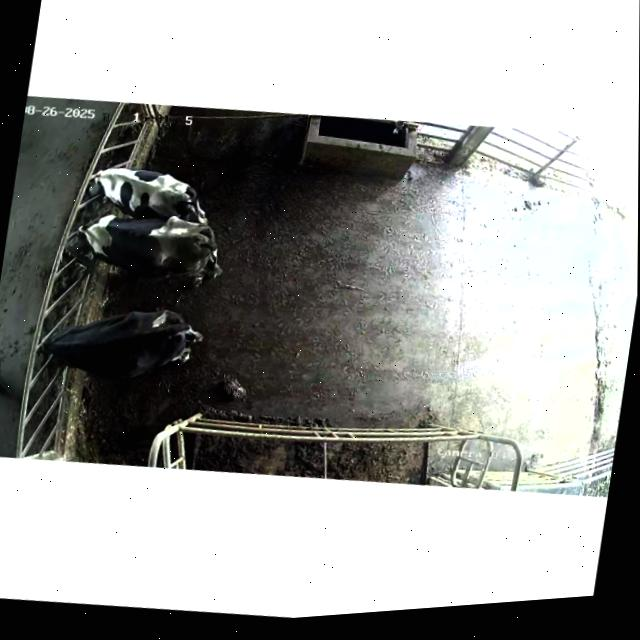eat: (60, 152, 135, 213), (19, 314, 83, 376), (45, 208, 108, 267)
